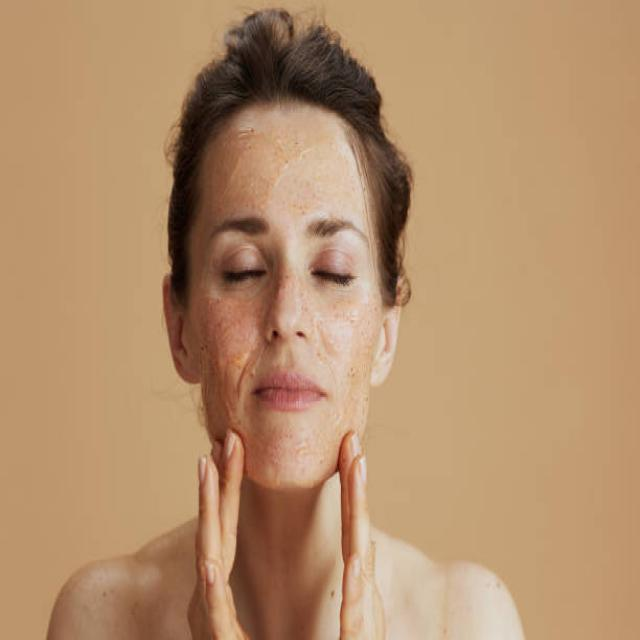Dry-Skin: (214, 124, 348, 218), (312, 303, 381, 411), (187, 290, 247, 397)
